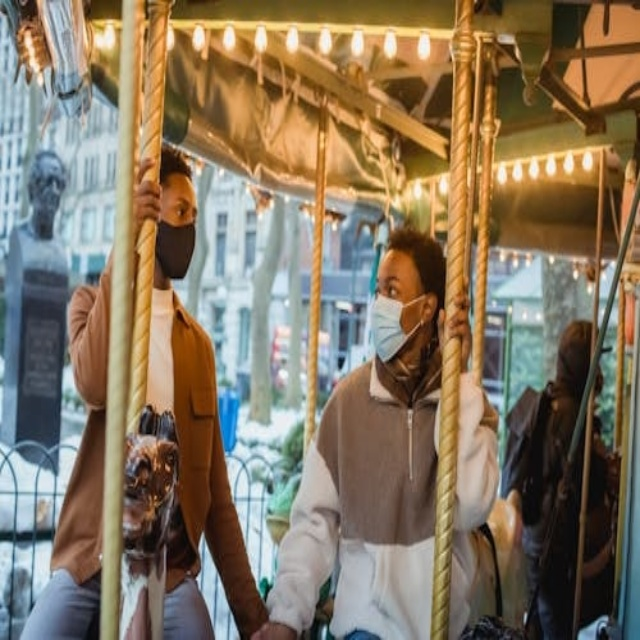Mascara: (366, 290, 422, 357), (157, 219, 201, 283)
Sin_gafas: (163, 196, 200, 227), (374, 269, 412, 296)
Sin_guantes: (133, 150, 164, 231), (448, 273, 474, 367)
